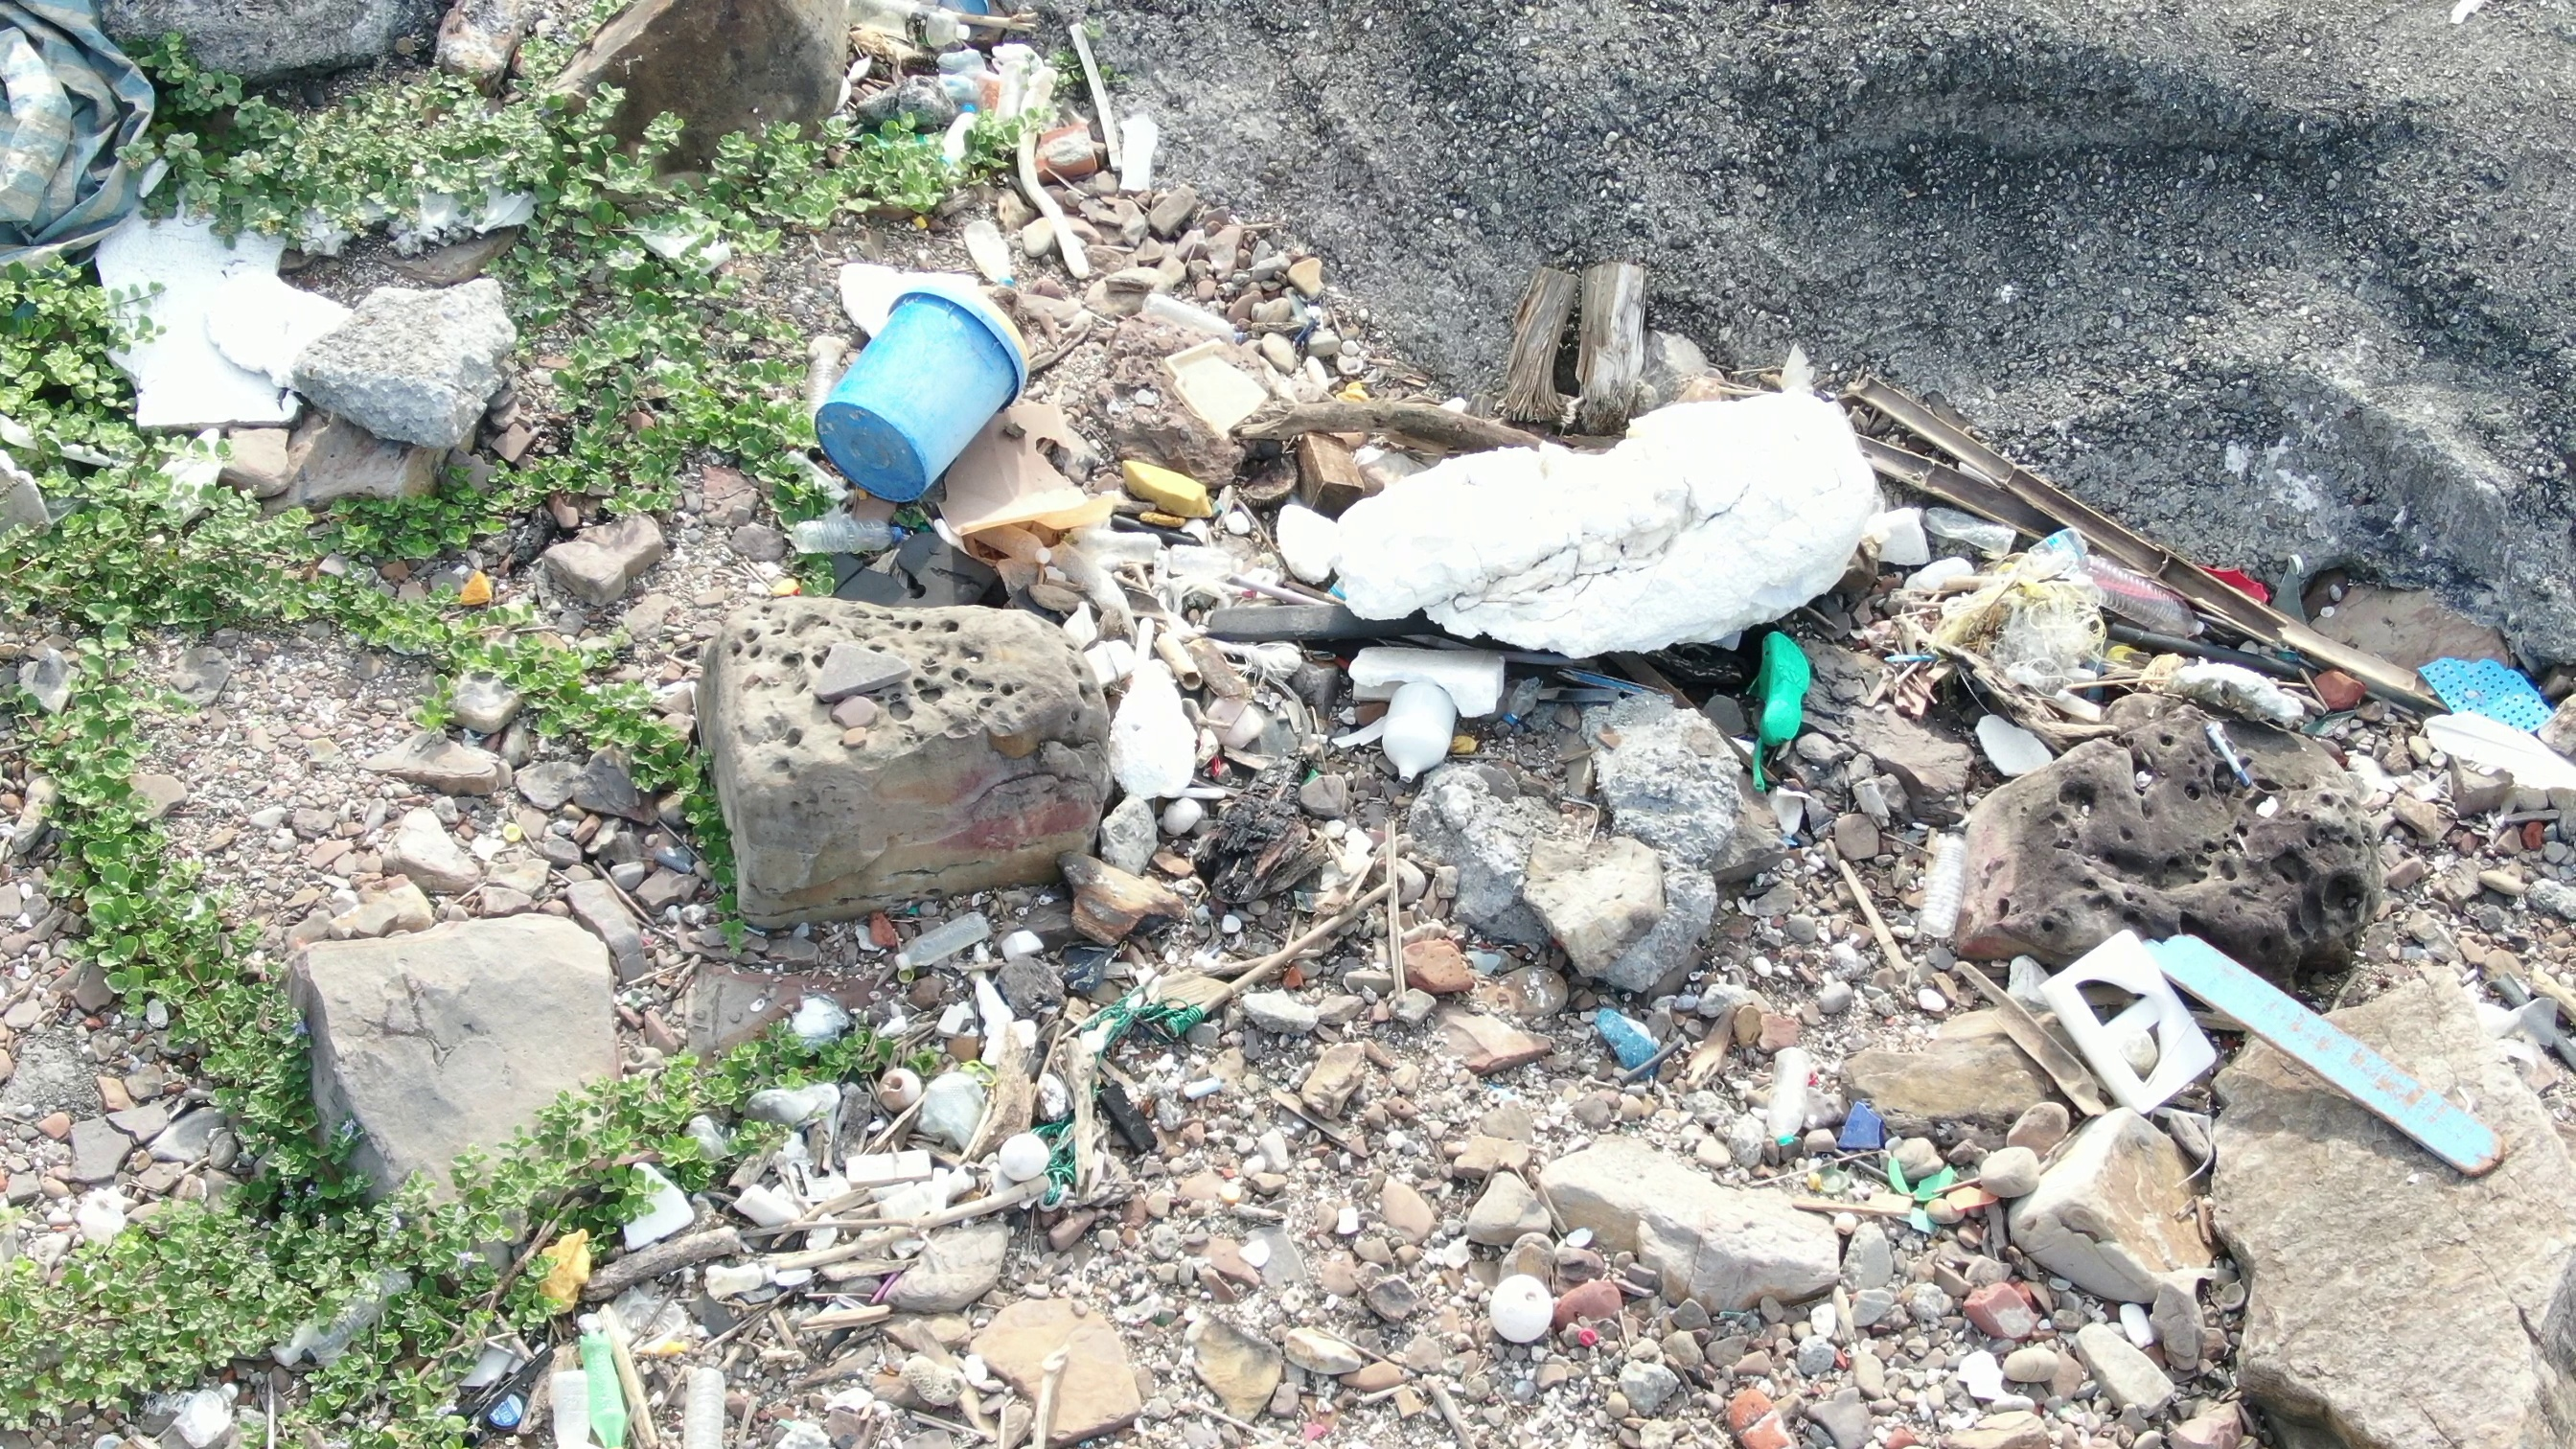bottle: (2081, 541, 2217, 653), (819, 2, 994, 62), (886, 899, 1014, 977), (755, 506, 924, 564), (961, 202, 1030, 294)
garbage: (1309, 352, 1881, 665), (2022, 915, 2525, 1189), (87, 175, 352, 441), (796, 249, 1044, 527), (2, 4, 182, 246), (1907, 515, 2121, 717), (1024, 994, 1207, 1210), (835, 14, 1090, 154), (522, 1214, 665, 1449), (1339, 651, 1543, 777), (1817, 1090, 1992, 1235), (2422, 626, 2562, 750), (1739, 626, 1826, 807), (1914, 807, 1978, 973), (1960, 708, 2072, 793), (1115, 435, 1221, 520), (1591, 991, 1674, 1085)
